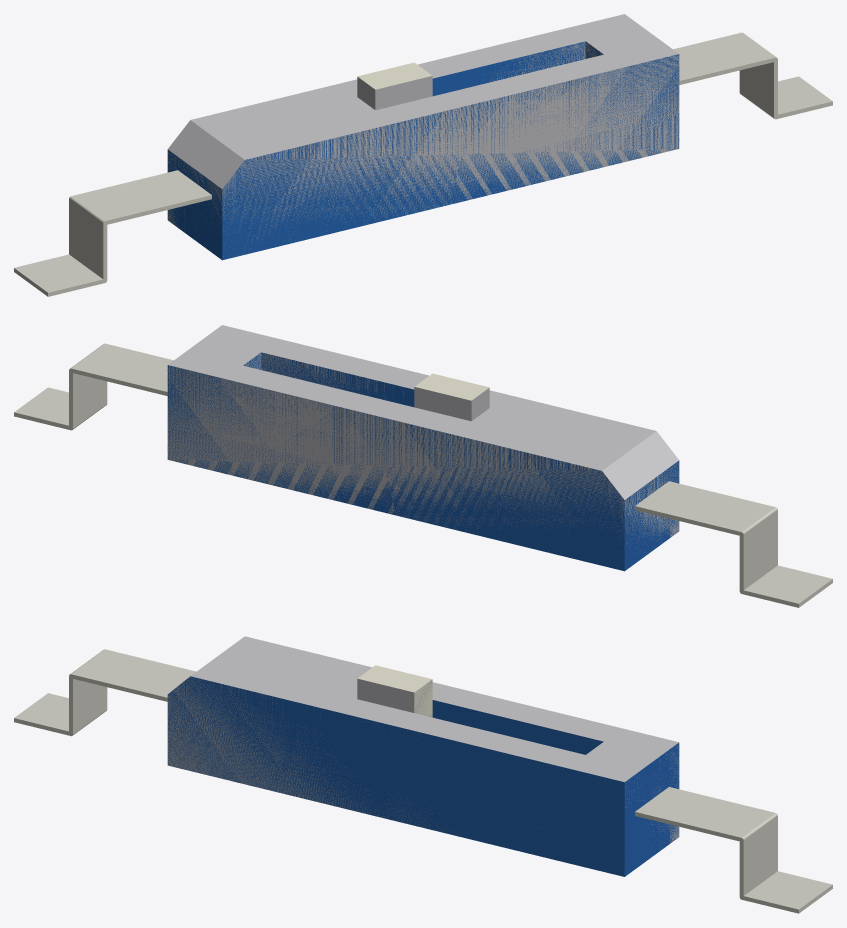
Rendered from kc-sw_spst_reed_ct10-xxxx-g2.glb.
The picture shows the model from 3 angles, top to bottom: view 1: azimuth 30°, elevation 25°; view 2: azimuth 150°, elevation 25°; view 3: azimuth 330°, elevation 25°; orthographic projection.
Visible parts, largest first — view 1: 0.5833333333333334_0.5833333333333334_0.5833333333333334_0.8, 0_0.16666666666666666_0.5_0, 0.6666666666666666_0.6666666666666666_0.5833333333333334_0.8, 0.75_0.75_0.6666666666666666_0; view 2: 0.5833333333333334_0.5833333333333334_0.5833333333333334_0.8, 0_0.16666666666666666_0.5_0, 0.6666666666666666_0.6666666666666666_0.5833333333333334_0.8, 0.75_0.75_0.6666666666666666_0; view 3: 0_0.16666666666666666_0.5_0, 0.5833333333333334_0.5833333333333334_0.5833333333333334_0.8, 0.6666666666666666_0.6666666666666666_0.5833333333333334_0.8, 0.75_0.75_0.6666666666666666_0.
Part boxes in pixels (x1,y1,x2,y2): 0.5833333333333334_0.5833333333333334_0.5833333333333334_0.8: [167, 14, 679, 257]; 0_0.16666666666666666_0.5_0: [167, 41, 679, 260]; 0.6666666666666666_0.6666666666666666_0.5833333333333334_0.8: [14, 32, 832, 296]; 0.75_0.75_0.6666666666666666_0: [357, 62, 432, 89]; 0.5833333333333334_0.5833333333333334_0.5833333333333334_0.8: [167, 325, 679, 550]; 0_0.16666666666666666_0.5_0: [167, 352, 679, 571]; 0.6666666666666666_0.6666666666666666_0.5833333333333334_0.8: [14, 343, 832, 607]; 0.75_0.75_0.6666666666666666_0: [414, 373, 489, 400]; 0_0.16666666666666666_0.5_0: [167, 676, 679, 876]; 0.5833333333333334_0.5833333333333334_0.5833333333333334_0.8: [167, 636, 679, 871]; 0.6666666666666666_0.6666666666666666_0.5833333333333334_0.8: [14, 649, 832, 913]; 0.75_0.75_0.6666666666666666_0: [357, 665, 432, 716].
Size of the model in its own units: 1.99 by 0.29 by 0.24.
